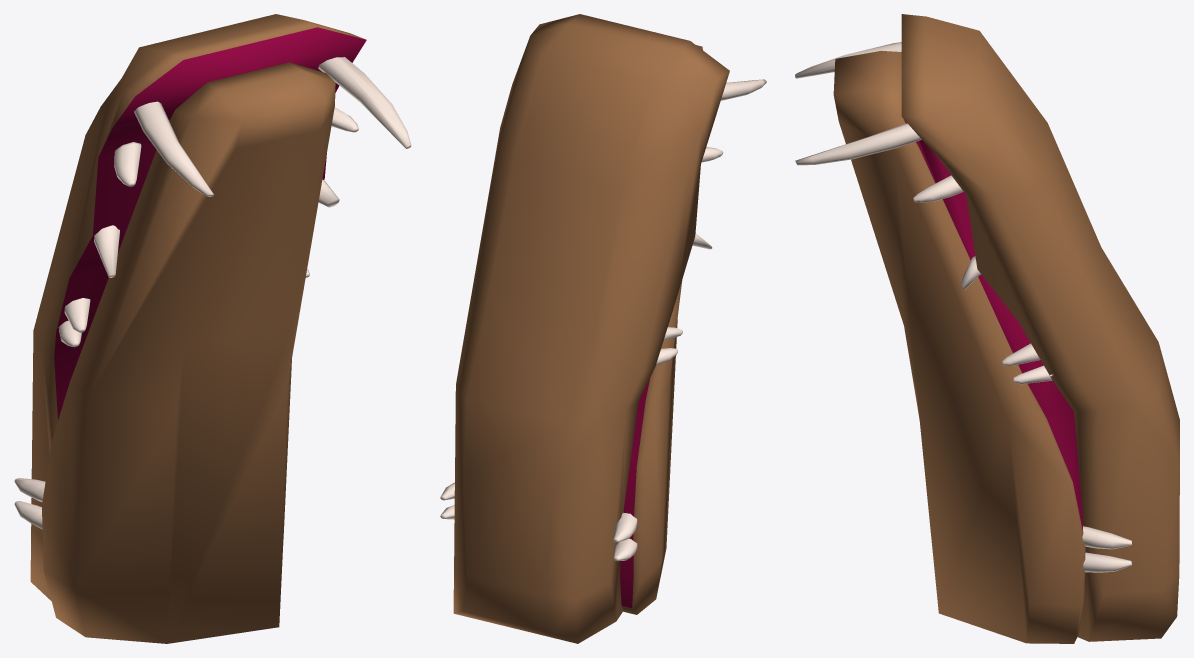
The model's file is Snaggleteeth.fbx.
3 renders of one model, left to right at view 1: azimuth 30°, elevation 25°; view 2: azimuth 150°, elevation 25°; view 3: azimuth 270°, elevation 25°, orthographic. The views are drawn at different scales.
Visible parts, largest first — view 1: Snaggleteeth - imohamed7 (Skorados); view 2: Snaggleteeth - imohamed7 (Skorados); view 3: Snaggleteeth - imohamed7 (Skorados).
Part boxes in pixels (x1,y1,x2,y2): Snaggleteeth - imohamed7 (Skorados): (14,14,411,643); Snaggleteeth - imohamed7 (Skorados): (440,14,766,643); Snaggleteeth - imohamed7 (Skorados): (795,14,1179,643).
Bounding box in the file's own units: 48.62 × 121 × 74.81.
